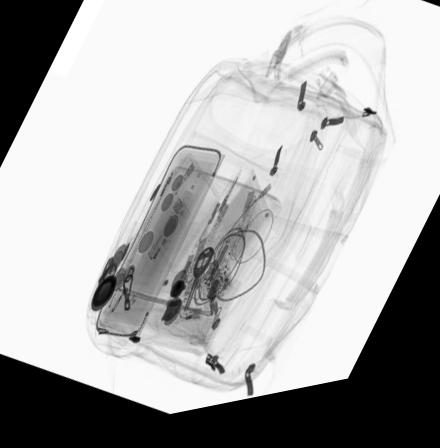Lighter: (145, 197, 193, 270)
